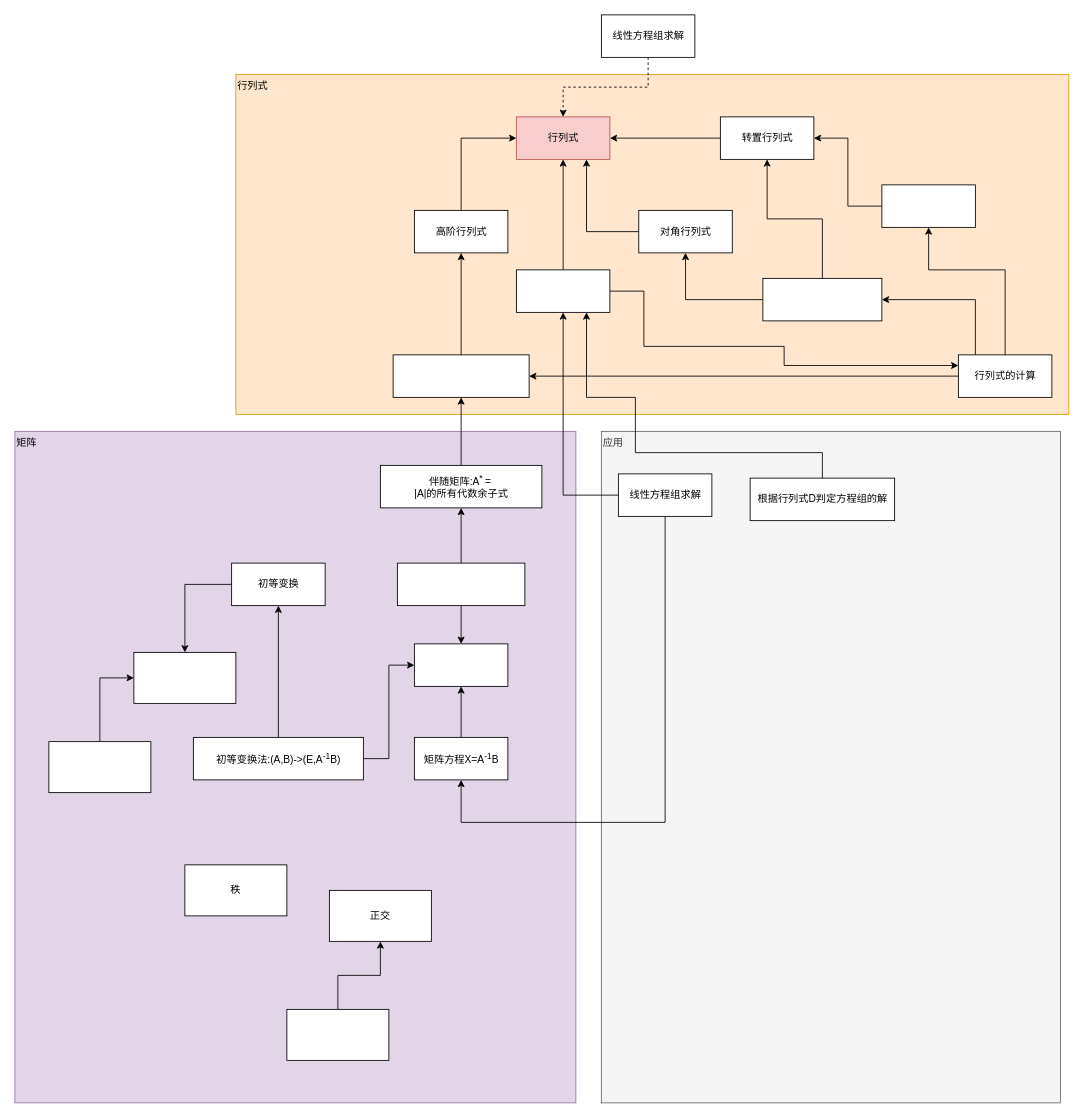
The diagram is 1084 pixels wide and 1118 high, and some of its shapes have lost their labels. Here are the shapes that lost their labels. From the top down, the centre of each, then its label:
point (928, 205): 降阶法
point (563, 290): 克莱姆法则
point (822, 299): 利用三角化计算行列式
point (460, 375): 代数余子式:任意一行即可
point (461, 584): 伴随矩阵法A -1 =A * ➗|A|
point (184, 677): 行阶梯形矩阵
point (461, 664): 逆矩阵计算
point (99, 767): 行最简形矩阵
point (337, 1034): 标准正交
